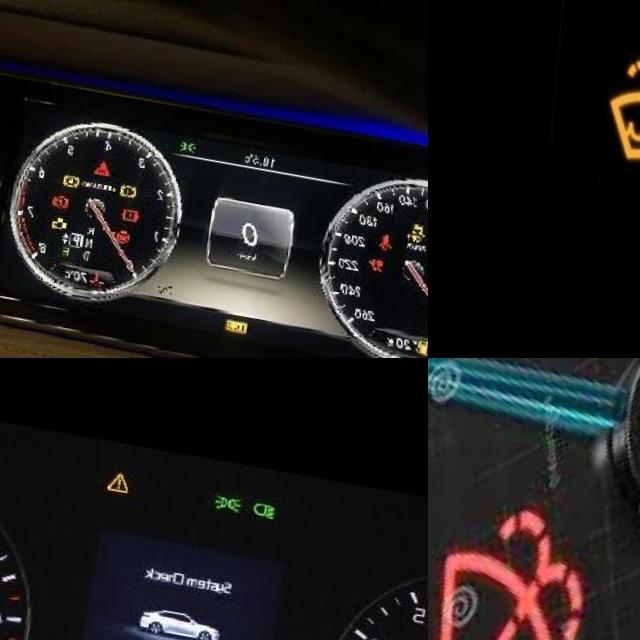Electronic Power Steering: (119, 215, 149, 240)
High Engine Coolant Temperature: (101, 264, 119, 280)
Washer Fluid: (438, 484, 607, 640), (612, 46, 640, 165)
